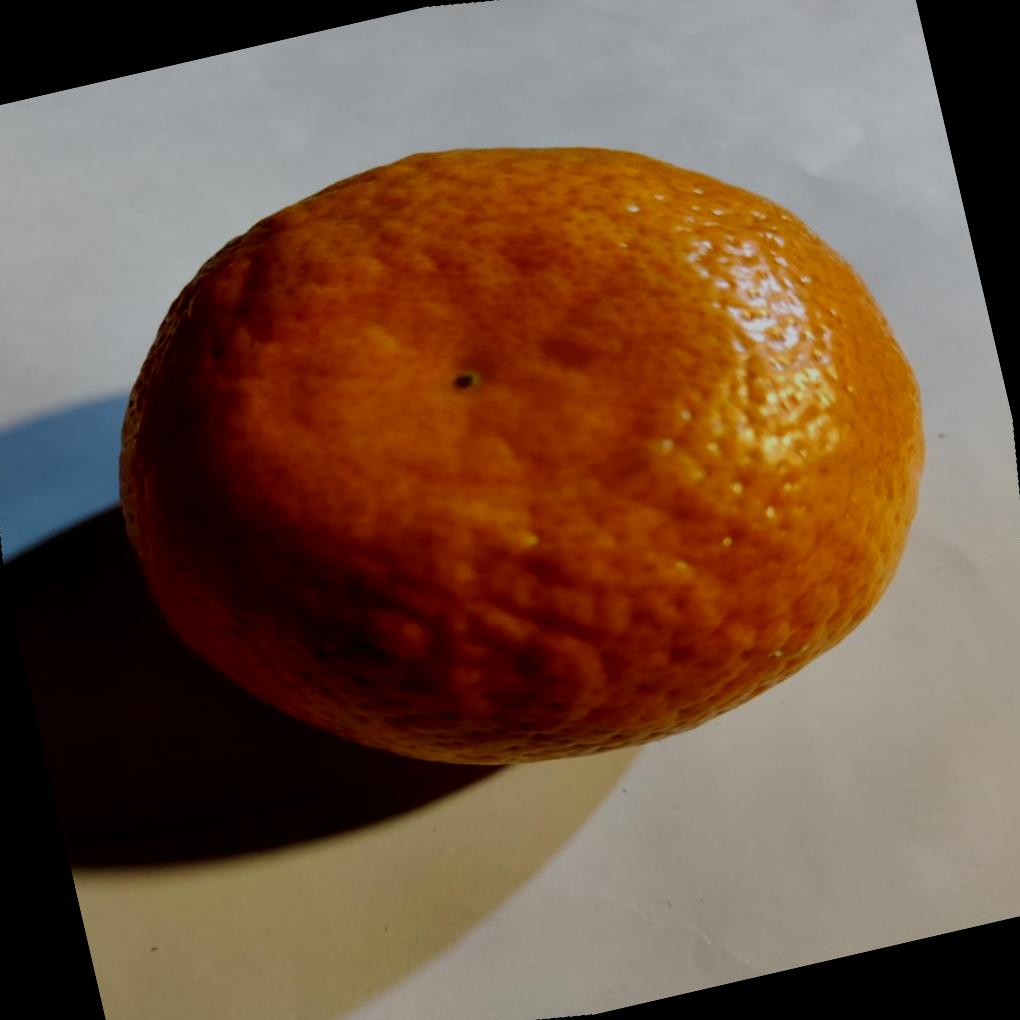FreshGuava: (111, 144, 923, 771)
